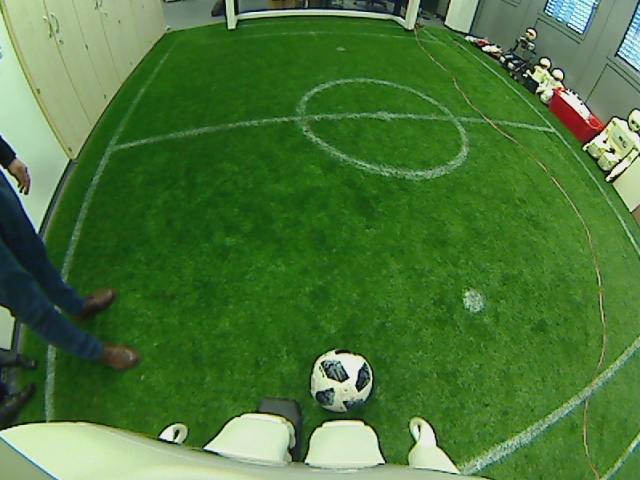ball: (307, 346, 375, 411)
